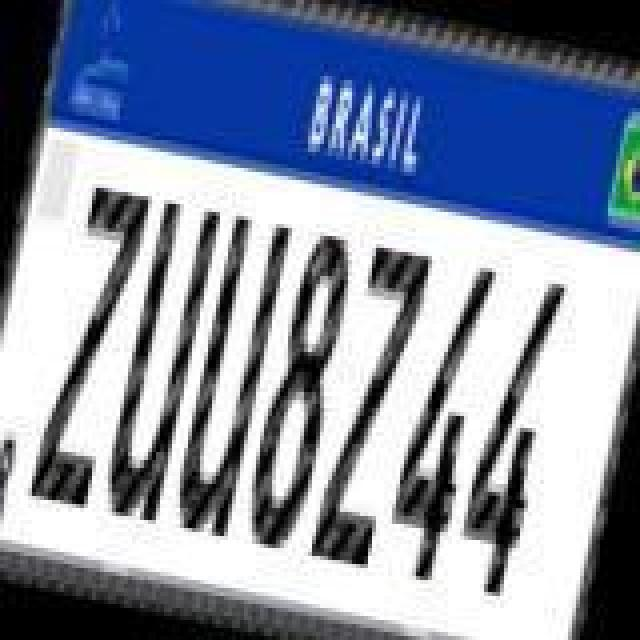4: (374, 250, 506, 590), (446, 266, 578, 606)
8: (236, 224, 364, 560)
U: (96, 196, 224, 532), (168, 208, 296, 544)
Z: (302, 240, 434, 576), (22, 178, 154, 510)
